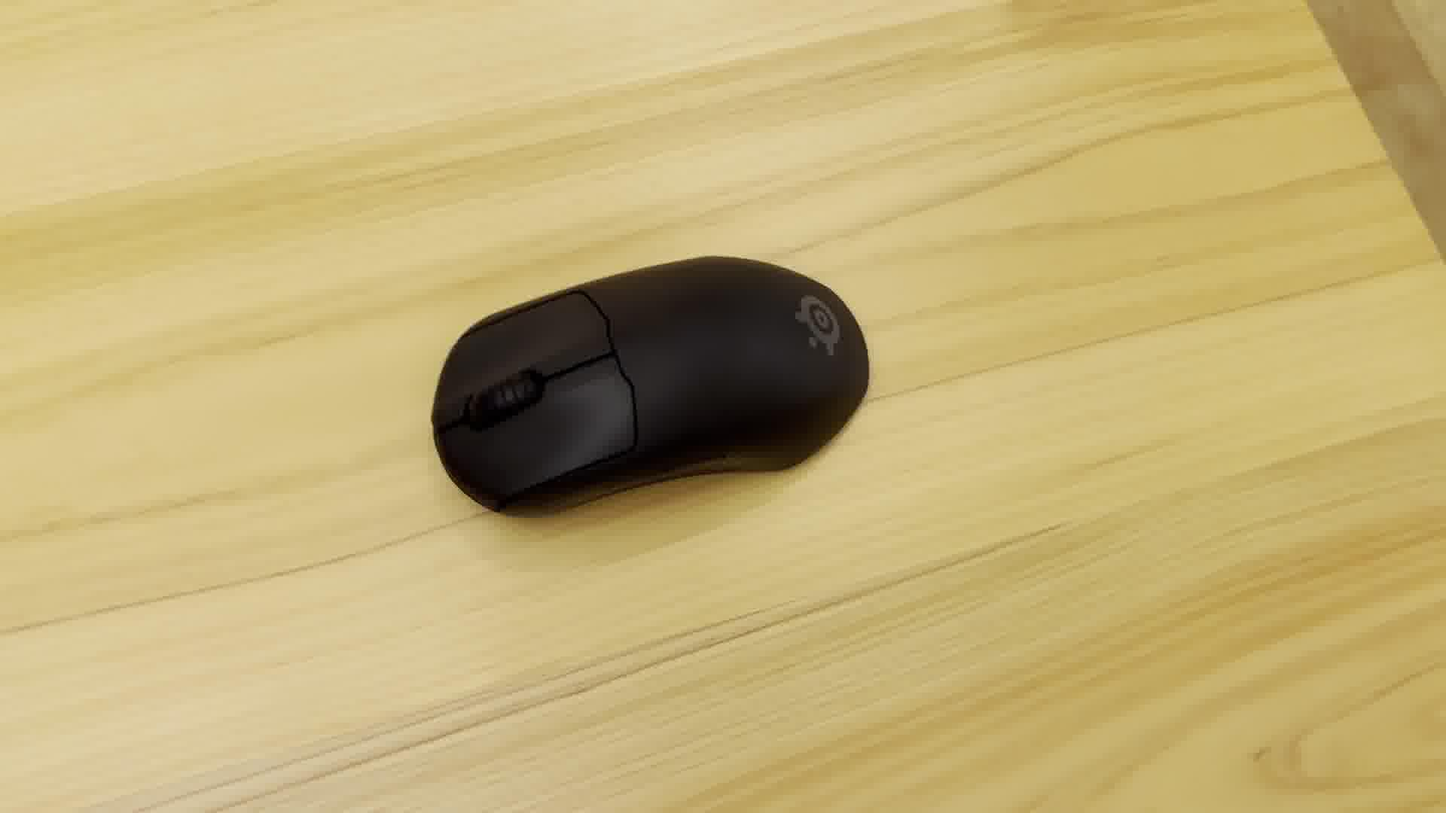steel-series: (427, 247, 877, 526)
